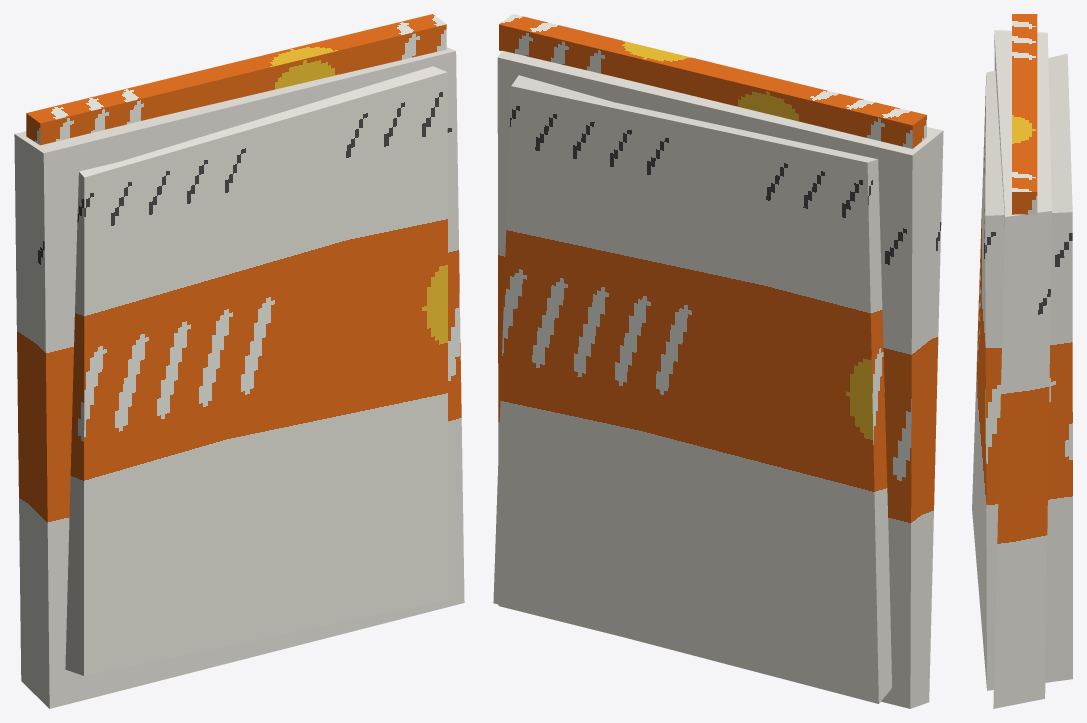
Rendered from item_hand_warmer.glb.
The picture shows the model from 3 angles, left to right: view 1: azimuth 30°, elevation 25°; view 2: azimuth 150°, elevation 25°; view 3: azimuth 270°, elevation 25°; orthographic projection. The views are drawn at different scales.
Parts seen in each view (by area): view 1: item_hand_warmer; view 2: item_hand_warmer; view 3: item_hand_warmer.
Boxes of the visible parts, box(x1,y1,x2,y2) form: item_hand_warmer: box(14, 14, 464, 708); item_hand_warmer: box(493, 14, 943, 708); item_hand_warmer: box(972, 14, 1072, 708).
Size of the model in its own units: 0.1034 by 0.1368 by 0.024.
Materials: 1 (1 with a texture image).
